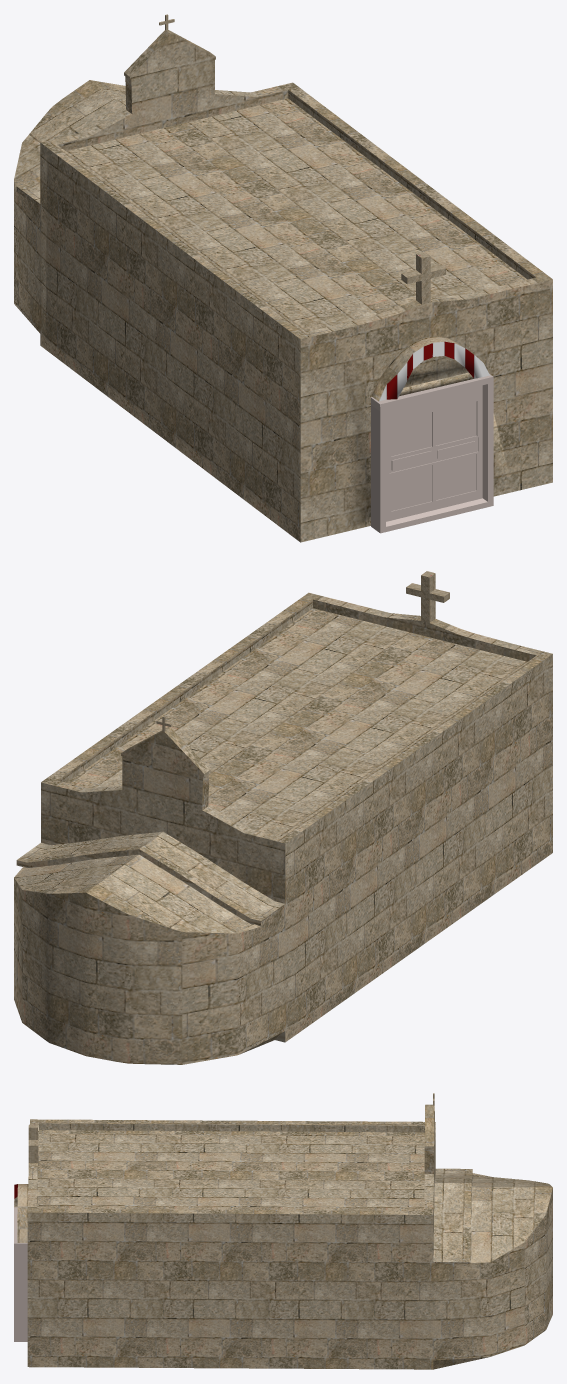
Rendered from Church4.obj.
3 renders of one model, top to bottom at view 1: azimuth 30°, elevation 25°; view 2: azimuth 150°, elevation 25°; view 3: azimuth 270°, elevation 25°, orthographic. The views are drawn at different scales.
Parts seen in each view (by area): view 1: ChurchMain, Door, DoorCross; view 2: ChurchMain, DoorCross; view 3: ChurchMain, Door, DoorCross.
Boxes of the visible parts, x1,y1,x2,y2 form: ChurchMain: (14, 30, 552, 542); Door: (371, 374, 493, 533); DoorCross: (401, 251, 445, 304); ChurchMain: (14, 592, 552, 1064); DoorCross: (406, 571, 449, 622); ChurchMain: (14, 1104, 552, 1369); Door: (14, 1201, 27, 1341); DoorCross: (28, 1124, 37, 1162).
Bounding box in the file's own units: 1.56 × 1.74 × 3.7.
